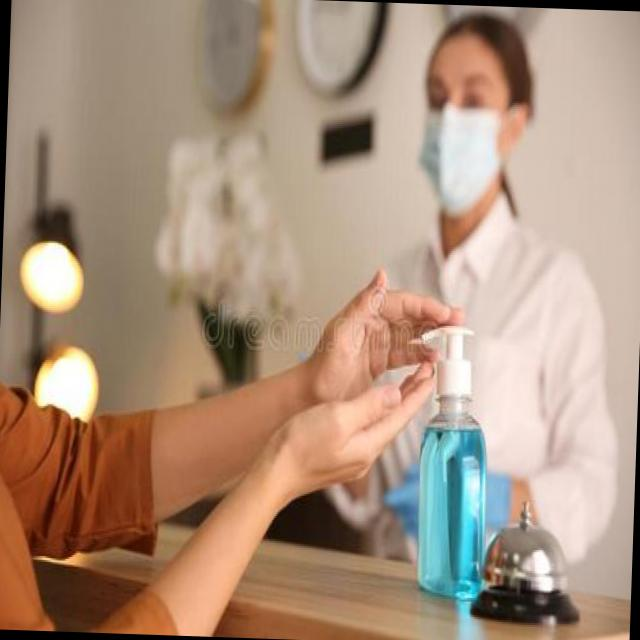sanitizer: (408, 318, 496, 596)
